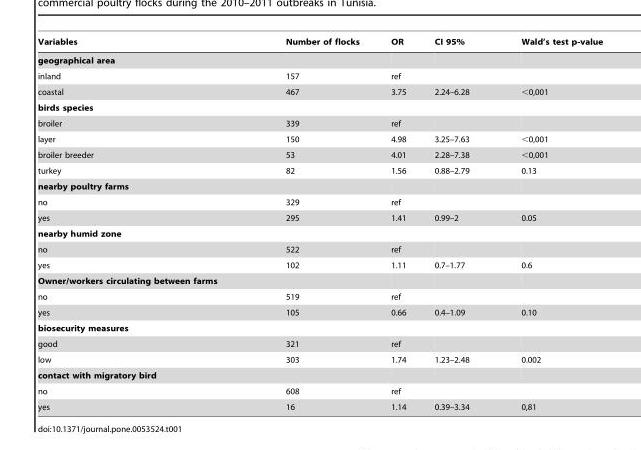table: (37, 37, 602, 411)
table column: (37, 37, 250, 411), (250, 37, 374, 411), (494, 37, 602, 411), (419, 37, 494, 411), (374, 37, 419, 411)
table column header: (37, 37, 602, 50)
table projected row header: (37, 50, 602, 68), (37, 99, 602, 115), (37, 178, 602, 194), (37, 225, 602, 241), (37, 272, 602, 288), (37, 367, 602, 383), (37, 320, 602, 335)
table row: (37, 50, 602, 68), (37, 83, 602, 99), (37, 99, 602, 115), (37, 115, 602, 131), (37, 146, 602, 162), (37, 162, 602, 178), (37, 178, 602, 194), (37, 209, 602, 225), (37, 225, 602, 241), (37, 241, 602, 257), (37, 272, 602, 288), (37, 288, 602, 304), (37, 304, 602, 320), (37, 335, 602, 351), (37, 351, 602, 367), (37, 367, 602, 383), (37, 68, 602, 83), (37, 131, 602, 146), (37, 194, 602, 209), (37, 257, 602, 272), (37, 320, 602, 335), (37, 383, 602, 398), (37, 37, 602, 50), (37, 398, 602, 411)
